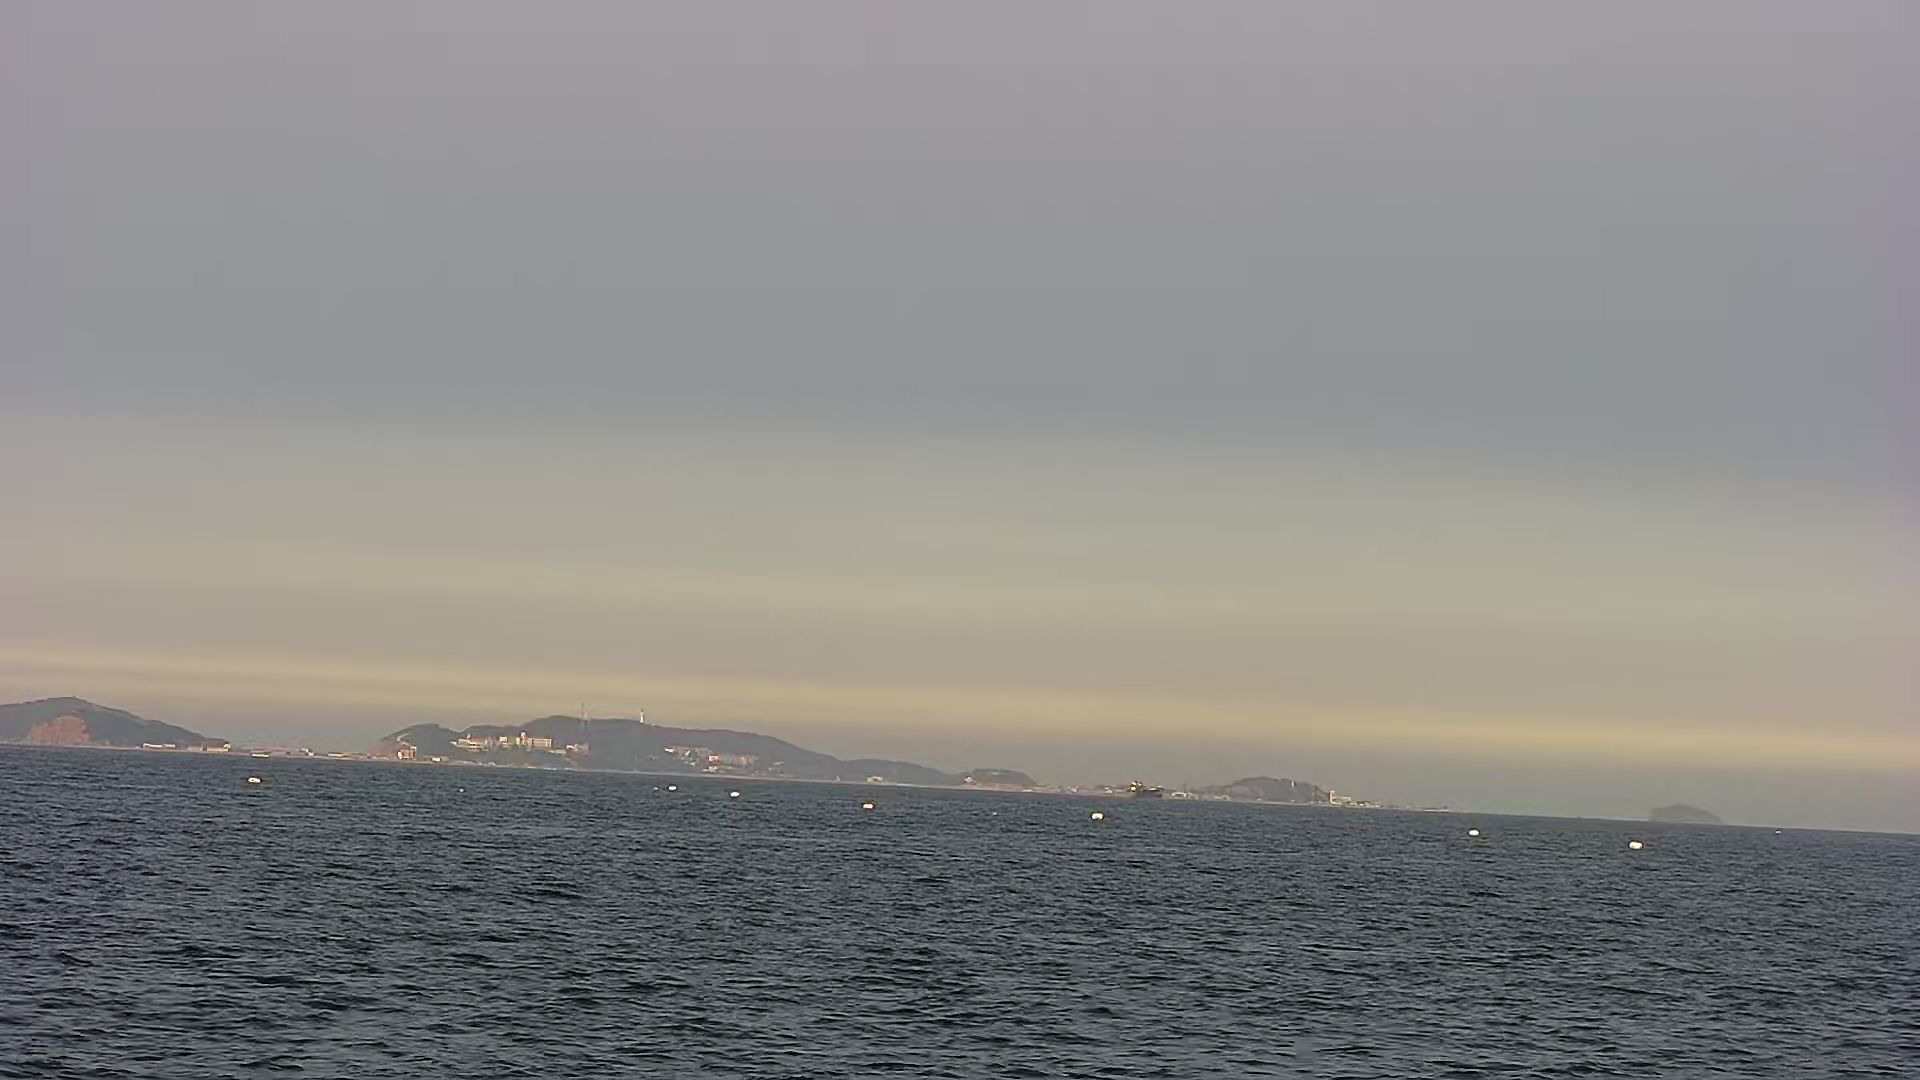rock: (373, 709, 1000, 779), (1081, 746, 1387, 803), (7, 673, 225, 750), (1634, 793, 1735, 829)
